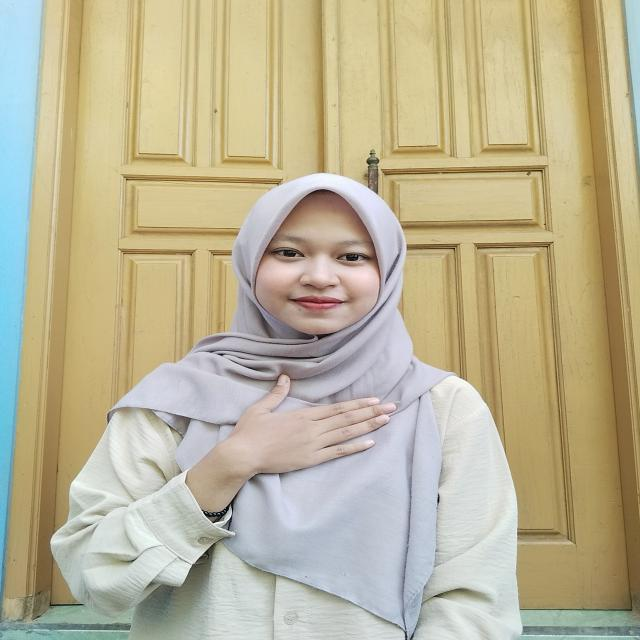tolong: (160, 374, 412, 499)
